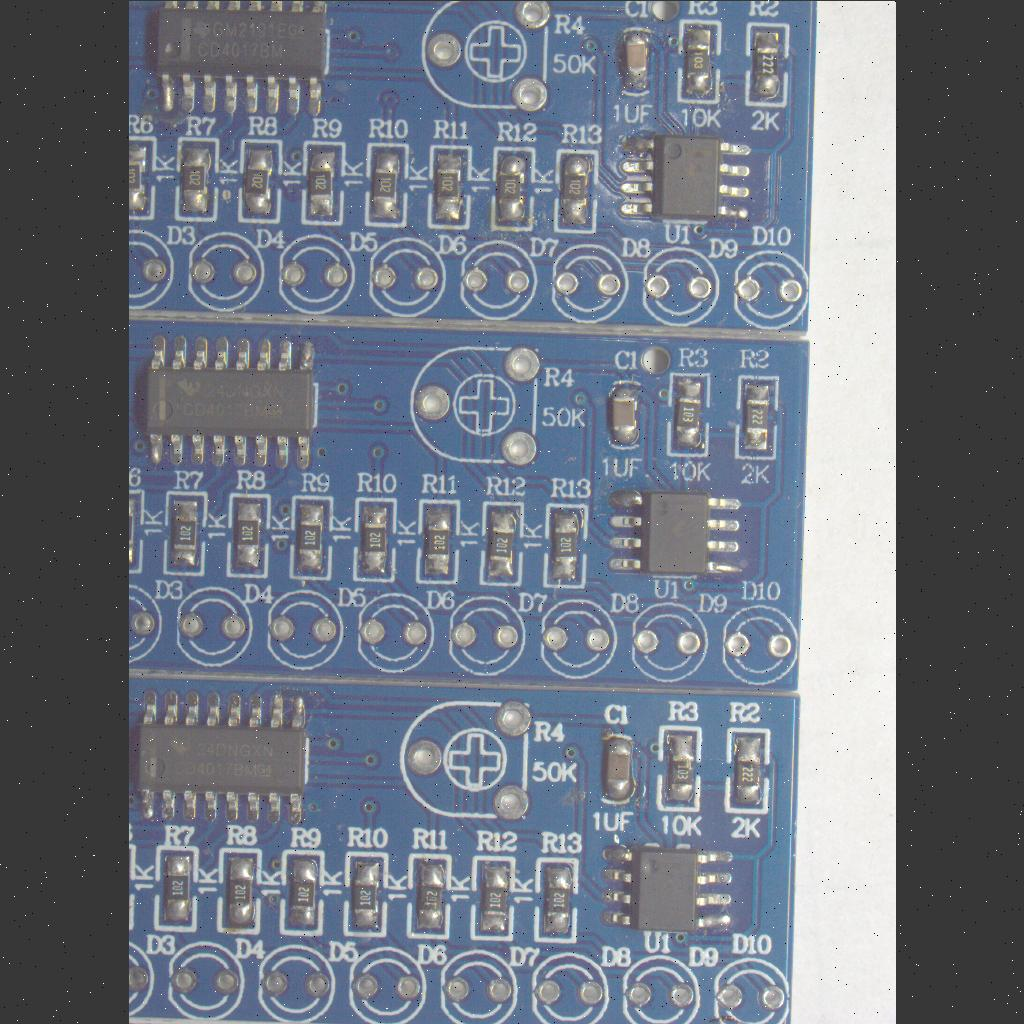OK: (128, 324, 332, 478), (131, 680, 317, 830), (144, 0, 340, 124), (610, 120, 768, 234), (598, 483, 752, 585), (593, 838, 745, 938), (653, 720, 707, 814), (149, 842, 203, 934), (740, 17, 792, 111), (276, 846, 328, 938), (530, 853, 582, 945), (466, 850, 518, 942), (674, 16, 726, 108), (662, 369, 714, 461), (722, 723, 772, 817), (222, 490, 274, 580), (540, 499, 590, 591), (412, 495, 462, 587), (350, 492, 400, 584), (477, 496, 527, 588), (298, 136, 348, 228), (610, 16, 662, 104), (598, 372, 652, 456), (213, 846, 263, 936), (171, 134, 221, 224), (286, 492, 336, 582), (340, 849, 390, 939), (362, 139, 410, 231), (425, 142, 475, 230), (552, 146, 602, 234), (732, 373, 782, 461), (160, 487, 208, 577), (404, 850, 452, 940), (489, 143, 537, 233), (236, 136, 284, 224), (594, 724, 640, 806), (128, 132, 156, 224)
